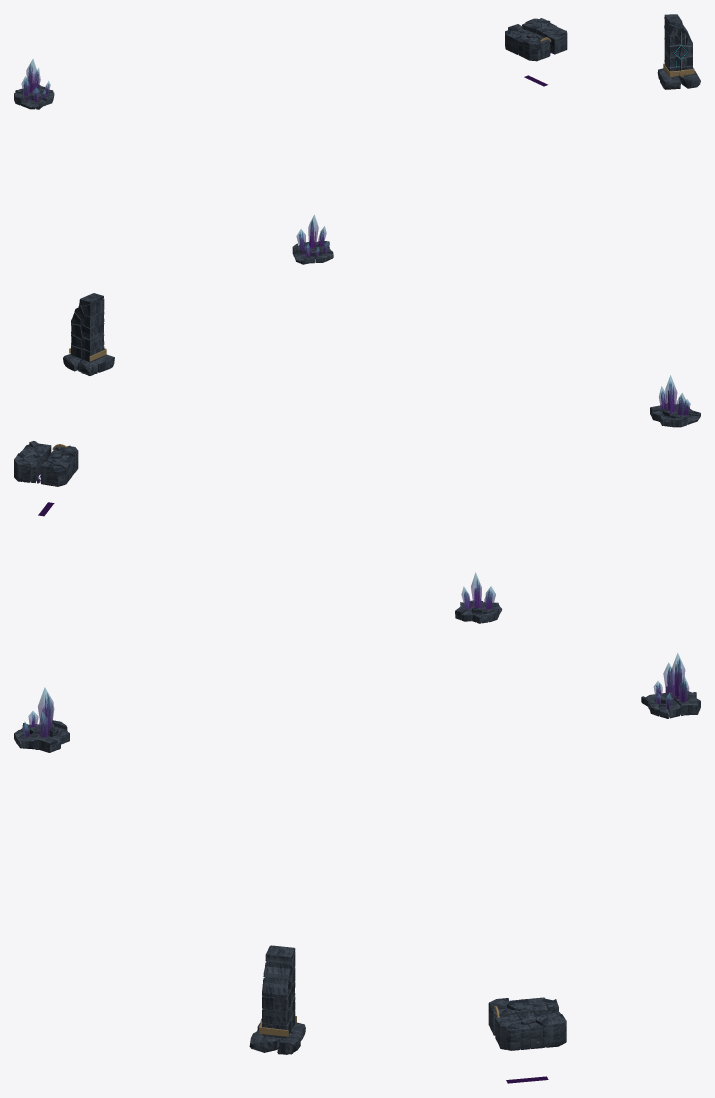
The model's file is chapter2_stage22_props.glb.
The picture shows the model from 3 angles, top to bottom: view 1: azimuth 30°, elevation 25°; view 2: azimuth 150°, elevation 25°; view 3: azimuth 270°, elevation 25°; orthographic projection. The views are drawn at different scales.
Visible parts, largest first — view 1: 2-7_void_fissure__ch2_weathered_slate, 2-7_pillar__ch2_weathered_slate, 2-7_crystal_right__ch2_weathered_slate, 2-7_crystal_lower_left__ch2_weathered_slate; view 2: 2-7_pillar__ch2_weathered_slate, 2-7_void_fissure__ch2_weathered_slate, 2-7_crystal_right__ch2_weathered_slate, 2-7_crystal_lower_left__ch2_weathered_slate; view 3: 2-7_pillar__ch2_weathered_slate, 2-7_void_fissure__ch2_weathered_slate, 2-7_crystal_right__ch2_weathered_slate, 2-7_crystal_lower_left__ch2_weathered_slate.
Boxes of the visible parts, left/top/right/bottom form: 2-7_void_fissure__ch2_weathered_slate: left=505, top=18, right=567, bottom=61; 2-7_pillar__ch2_weathered_slate: left=657, top=14, right=700, bottom=89; 2-7_crystal_right__ch2_weathered_slate: left=292, top=241, right=333, bottom=264; 2-7_crystal_lower_left__ch2_weathered_slate: left=14, top=84, right=54, bottom=109; 2-7_pillar__ch2_weathered_slate: left=63, top=293, right=114, bottom=375; 2-7_void_fissure__ch2_weathered_slate: left=14, top=441, right=78, bottom=486; 2-7_crystal_right__ch2_weathered_slate: left=650, top=403, right=700, bottom=427; 2-7_crystal_lower_left__ch2_weathered_slate: left=455, top=600, right=502, bottom=623; 2-7_pillar__ch2_weathered_slate: left=249, top=945, right=305, bottom=1054; 2-7_void_fissure__ch2_weathered_slate: left=488, top=997, right=566, bottom=1050; 2-7_crystal_right__ch2_weathered_slate: left=14, top=720, right=69, bottom=752; 2-7_crystal_lower_left__ch2_weathered_slate: left=641, top=686, right=700, bottom=718.
Bounding box in the file's own units: 10.82 × 2.26 × 8.71.
7 materials, 2 textured.
